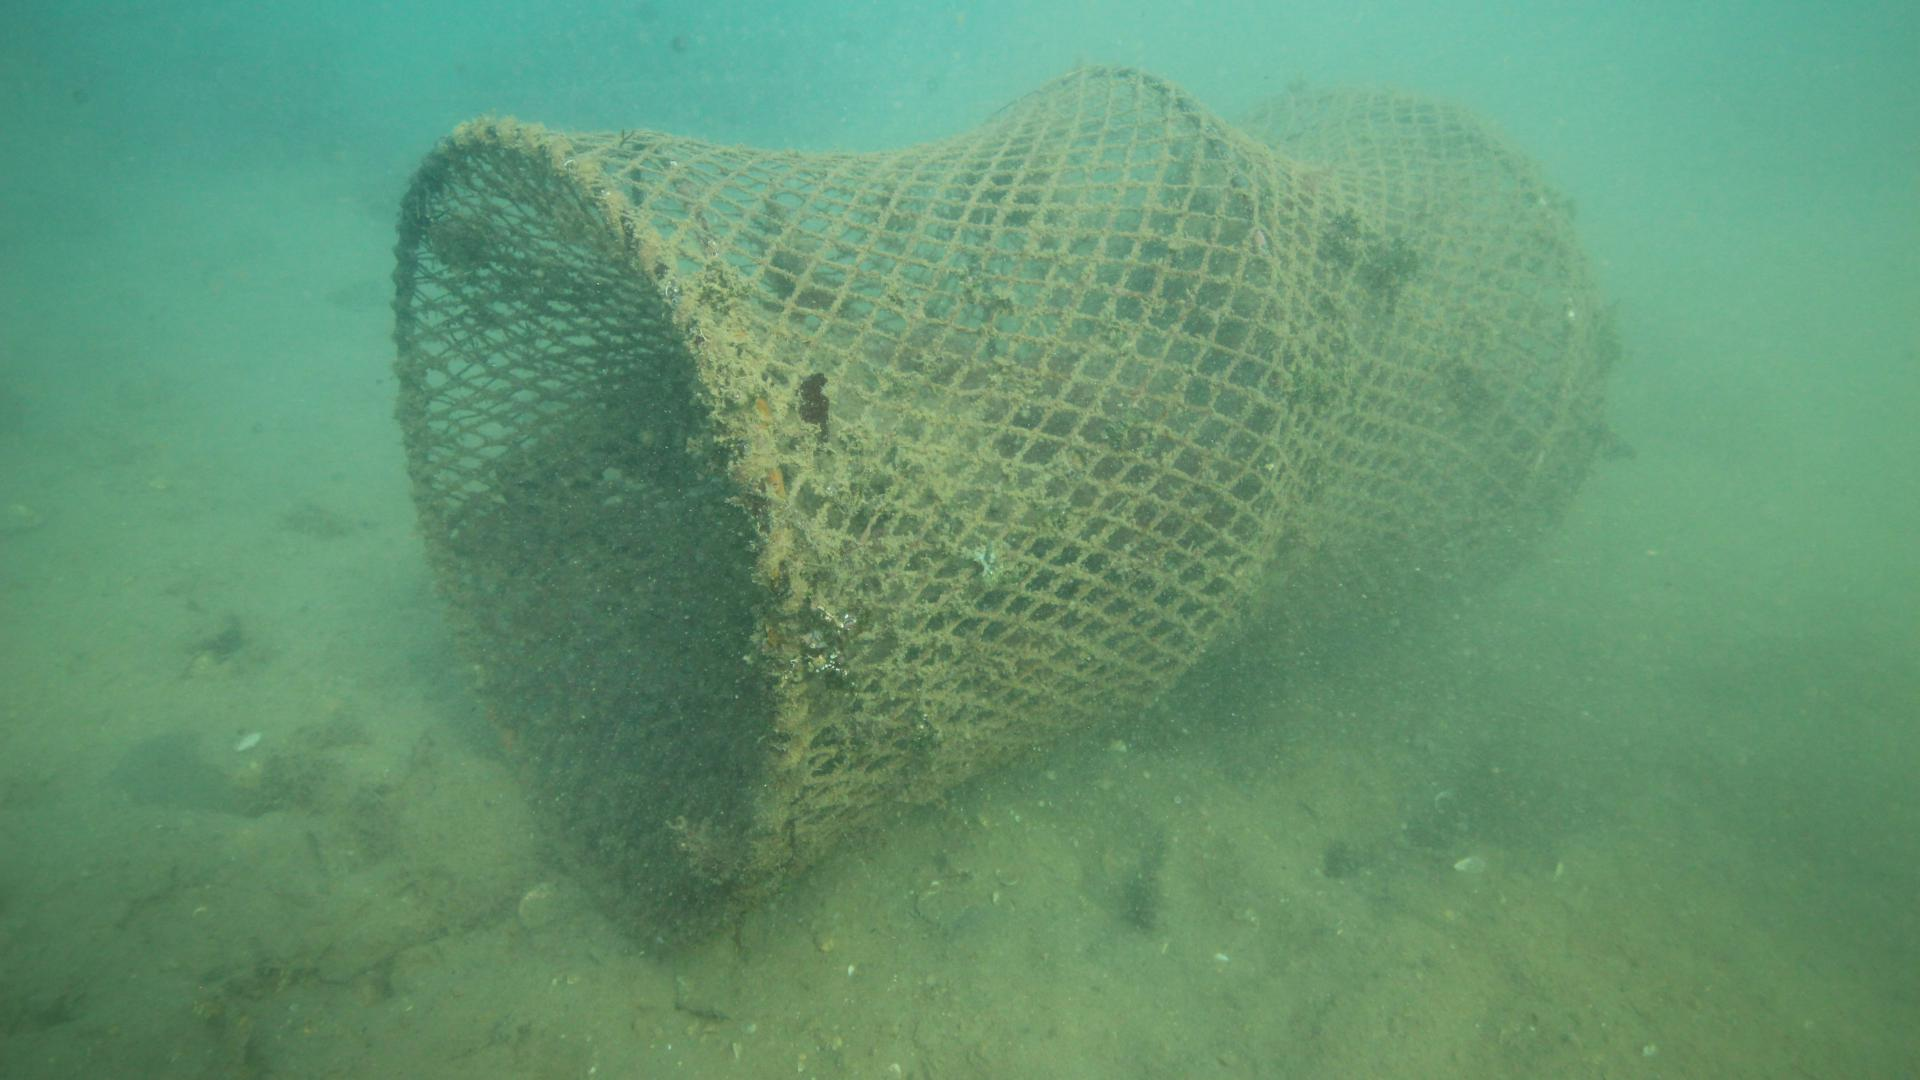spring fish trap: (388, 62, 1615, 949)
